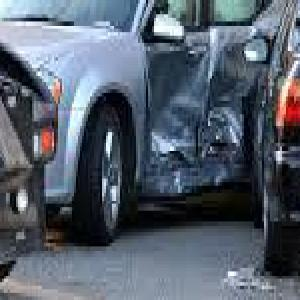minor: (0, 0, 300, 271)
